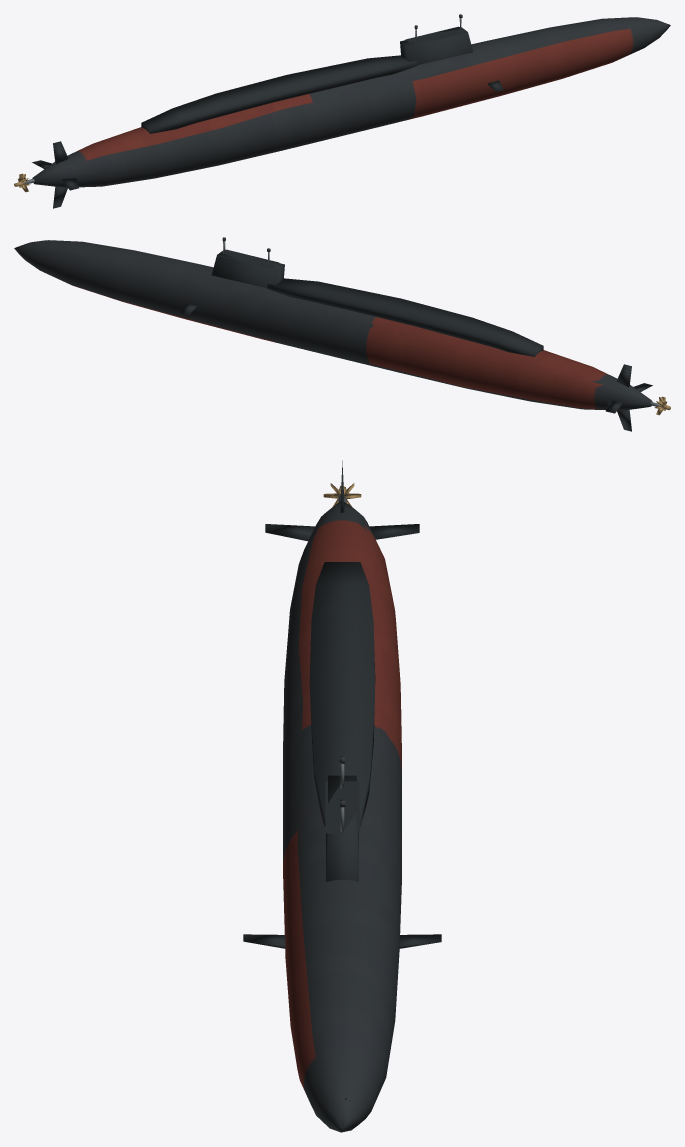
File: US_SSBN_EthanAllen_LOD3.fbx
3 views of the same model, one above another, from view 1: azimuth 30°, elevation 25°; view 2: azimuth 150°, elevation 25°; view 3: azimuth 270°, elevation 25° (orthographic). The views are drawn at different scales.
Visible parts, largest first — view 1: US_SSBN_EthanAllen_LOD3; view 2: US_SSBN_EthanAllen_LOD3; view 3: US_SSBN_EthanAllen_LOD3.
Part boxes in pixels (left/top/right/bottom): US_SSBN_EthanAllen_LOD3: left=14, top=14, right=670, bottom=208; US_SSBN_EthanAllen_LOD3: left=14, top=237, right=670, bottom=431; US_SSBN_EthanAllen_LOD3: left=243, top=460, right=441, bottom=1132.
Bounding box in the file's own units: 129 × 16.89 × 17.68.
6 materials, 1 textured.
